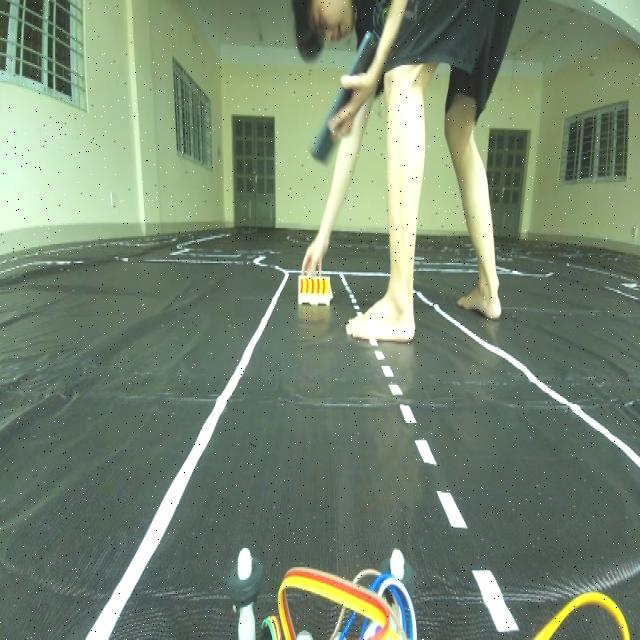roadblock: (294, 264, 341, 340)
